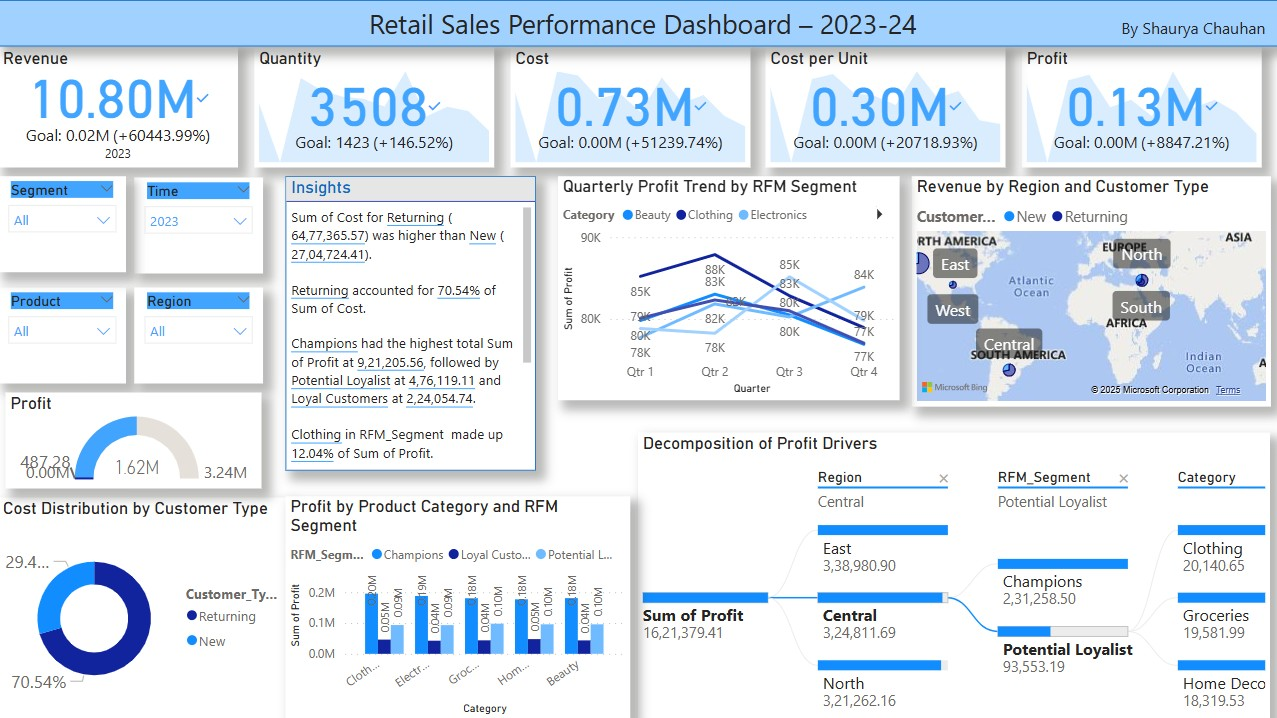

This screenshot's page, from the dashboard's own definition file:
{"tool":"powerbi","page":{"name":"Page 1","canvas":[1280,720],"ordinal":0},"visuals":[{"type":"kpi","title":"Revenue","fields":{"Indicator":["Sum(Sales.Revenue)"],"Goal":["CountNonNull(Sales.RFM_Segment)"],"TrendLine":["Sales.Year"]},"box":[0,48,240,120],"z":0},{"type":"kpi","title":"Quantity","fields":{"Indicator":["Sum(Sales.Quantity)"],"TrendLine":["Sales.Date.Variation.Date Hierarchy.Month"],"Goal":["CountNonNull(Sales.RFM_Segment)"]},"box":[256,48,240,120],"z":1000},{"type":"kpi","title":"Profit","fields":{"Indicator":["Sum(Sales.Profit)"],"TrendLine":["Sales.Date.Variation.Date Hierarchy.Month"],"Goal":["CountNonNull(Sales.RFM_Segment)"]},"box":[1024,48,240,120],"z":2000},{"type":"kpi","title":"Cost","fields":{"Indicator":["Sum(Sales.Cost)"],"TrendLine":["Sales.Date.Variation.Date Hierarchy.Month"],"Goal":["CountNonNull(Sales.RFM_Segment)"]},"box":[512,48,240,120],"z":3000},{"type":"kpi","title":"Cost per Unit","fields":{"Indicator":["Sum(Sales.Cost_per_Unit)"],"TrendLine":["Sales.Date.Variation.Date Hierarchy.Month"],"Goal":["CountNonNull(Sales.RFM_Segment)"]},"box":[768,48,240,120],"z":4000},{"type":"donutChart","title":"Cost Distribution by Customer Type","fields":{"Category":["Sales.Customer_Type"],"Y":["Sum(Sales.Cost)"]},"box":[0,496.9,287.7,223.1],"z":5000},{"type":"map","title":"Revenue by Region and Customer Type","fields":{"Category":["Sales.Region"],"Size":["Sum(Sales.Revenue)"],"Series":["Sales.Customer_Type"]},"box":[913.1,176.7,358.8,230.3],"z":6000},{"type":"slicer","fields":{"Values":["Sales.Product"]},"box":[0,288,128,96],"z":7000},{"type":"slicer","fields":{"Values":["Sales.Date.Variation.Date Hierarchy.Year","Sales.Date.Variation.Date Hierarchy.Quarter","Sales.Date.Variation.Date Hierarchy.Month","Sales.Date.Variation.Date Hierarchy.Day"]},"box":[136.2,176.9,128.5,96.2],"z":8000},{"type":"decompositionTreeVisual","title":"Decomposition of Profit Drivers","fields":{"ExplainBy":["Sales.Region","Sales.RFM_Segment","Sales.Category","Sales.Product"],"Analyze":["Sum(Sales.Profit)"]},"box":[640,432,632,288],"z":9000},{"type":"slicer","title":"Segment","fields":{"Values":["Sales.RFM_Segment"]},"box":[0,176,128,96],"z":10000},{"type":"slicer","fields":{"Values":["Sales.Region"]},"box":[136.2,287.7,128.5,96.2],"z":11000},{"type":"textbox","box":[0,0,1280,46.7],"z":12000},{"type":"gauge","title":"Profit","fields":{"Y":["Sum(Sales.Profit)"],"TargetValue":["Max(Sales.Profit)"]},"box":[7.7,393.1,256.2,96.2],"z":14000},{"type":"clusteredColumnChart","title":"Profit by Product Category and RFM Segment","fields":{"Category":["Sales.Category"],"Y":["Sum(Sales.Profit)"],"Series":["Sales.RFM_Segment"]},"box":[287.2,496.4,344.6,223.6],"z":15000},{"type":"textbox","title":"Insights","box":[288,176,250,294],"z":15001},{"type":"lineChart","title":"Quarterly Profit Trend by RFM Segment","fields":{"Category":["Sales.Date.Variation.Date Hierarchy.Quarter"],"Series":["Sales.Category"],"Y":["Sum(Sales.Profit)"]},"box":[560,176.2,341.2,223.8],"z":15002}]}

Visuals, with their boxes in screenshot pixels (x1, y1, x2, y2), scaled from the page's 1280x720 canvas onto the 1277x718 screenshot:
"Revenue" kpi: [0, 48, 239, 168]
"Quantity" kpi: [255, 48, 495, 168]
"Profit" kpi: [1022, 48, 1261, 168]
"Cost" kpi: [511, 48, 750, 168]
"Cost per Unit" kpi: [766, 48, 1006, 168]
"Cost Distribution by Customer Type" donutChart: [0, 496, 287, 717]
"Revenue by Region and Customer Type" map: [911, 176, 1269, 406]
slicer - Sales.Product: [0, 287, 128, 383]
slicer - Sales.Date.Variation.Date Hierarchy.Year x Sales.Date.Variation.Date Hierarchy.Quarter: [136, 176, 264, 272]
"Decomposition of Profit Drivers" decompositionTreeVisual: [638, 431, 1269, 717]
"Segment" slicer: [0, 176, 128, 271]
slicer - Sales.Region: [136, 287, 264, 383]
textbox: [0, 0, 1276, 47]
"Profit" gauge: [8, 392, 263, 488]
"Profit by Product Category and RFM Segment" clusteredColumnChart: [287, 495, 630, 717]
"Insights" textbox: [287, 176, 537, 469]
"Quarterly Profit Trend by RFM Segment" lineChart: [559, 176, 899, 399]
